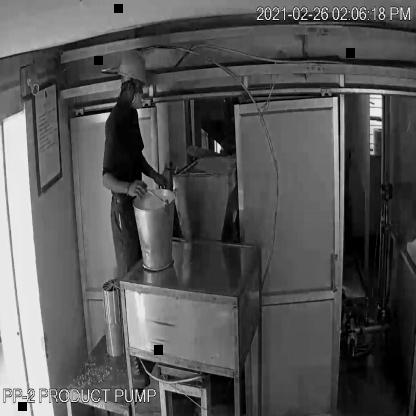helmet: (115, 45, 149, 87)
